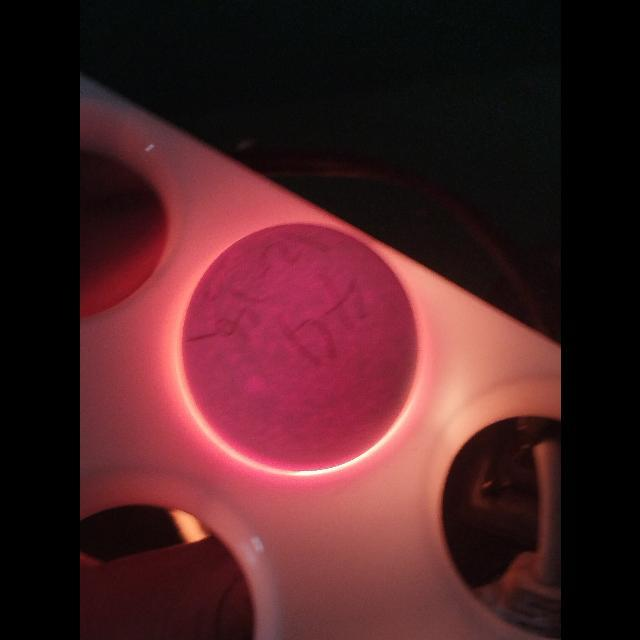Infertile: (178, 218, 422, 480)
